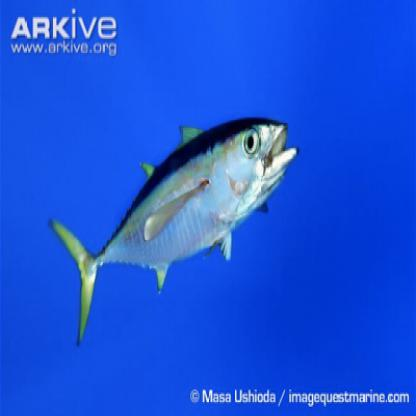Scombridae -Tunas-: (46, 113, 302, 349)
